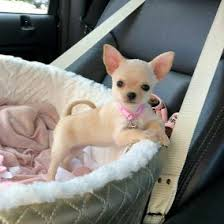chihuahua: (27, 31, 197, 183)
